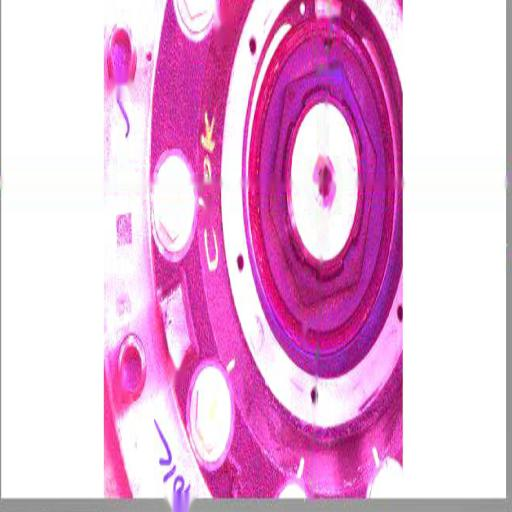center: (317, 156, 333, 198)
notch: (321, 31, 337, 54)
